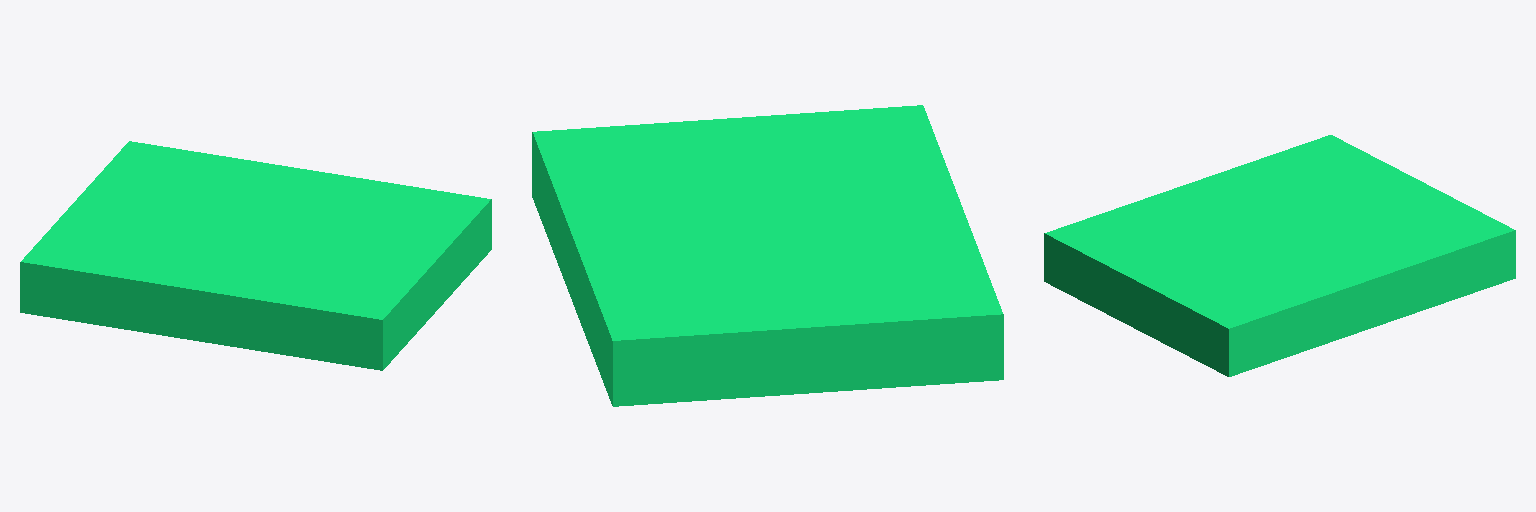
robot.urdf — Interference:
<?xml version="1.0"?>
<robot name="Interference">
  <link name="baseLink">
    <inertial>
      <origin xyz="0.0 0.0 0.0" rpy="0.0 0.0 0.0"/>
      <inertia ixx="0.0" ixy="0.0" ixz="0.0" iyy="0.0" iyz="0.0" izz="0.0"/>
      <mass value="0"/>
    </inertial>
    <visual>
      <origin xyz="0.0 0.0 0.0" rpy="0.0 0.0 0.6842559269919457"/>
      <geometry>
        <box size="0.05447100008195273 0.06900444457932595 0.01"/>
      </geometry>
      <material name="color">
        <color rgba="0.12962998353824273 0.9847672886290076 0.5514251369532102 1.0"/>
      </material>
    </visual>
  </link>
</robot>

--- Facts derived from the render (not from the file) ---
3 views of the same robot in one strip: view 1: azimuth 30°, elevation 25°; view 2: azimuth 150°, elevation 25°; view 3: azimuth 270°, elevation 25° (orthographic).
Model Interference with 1 links and 0 joints (none), rooted at baseLink, posed all joints at 0.
Links seen in each view (by area): view 1: baseLink; view 2: baseLink; view 3: baseLink.
Boxes of the visible links, x1=… form: baseLink: x1=20, y1=141, x2=491, y2=370; baseLink: x1=532, y1=105, x2=1003, y2=406; baseLink: x1=1044, y1=135, x2=1515, y2=376.
Bounding box of the posed robot: 0.0858 × 0.0879 × 0.01 m (x, y, z).
Geometry: primitives only (box / cylinder / sphere), no mesh files.